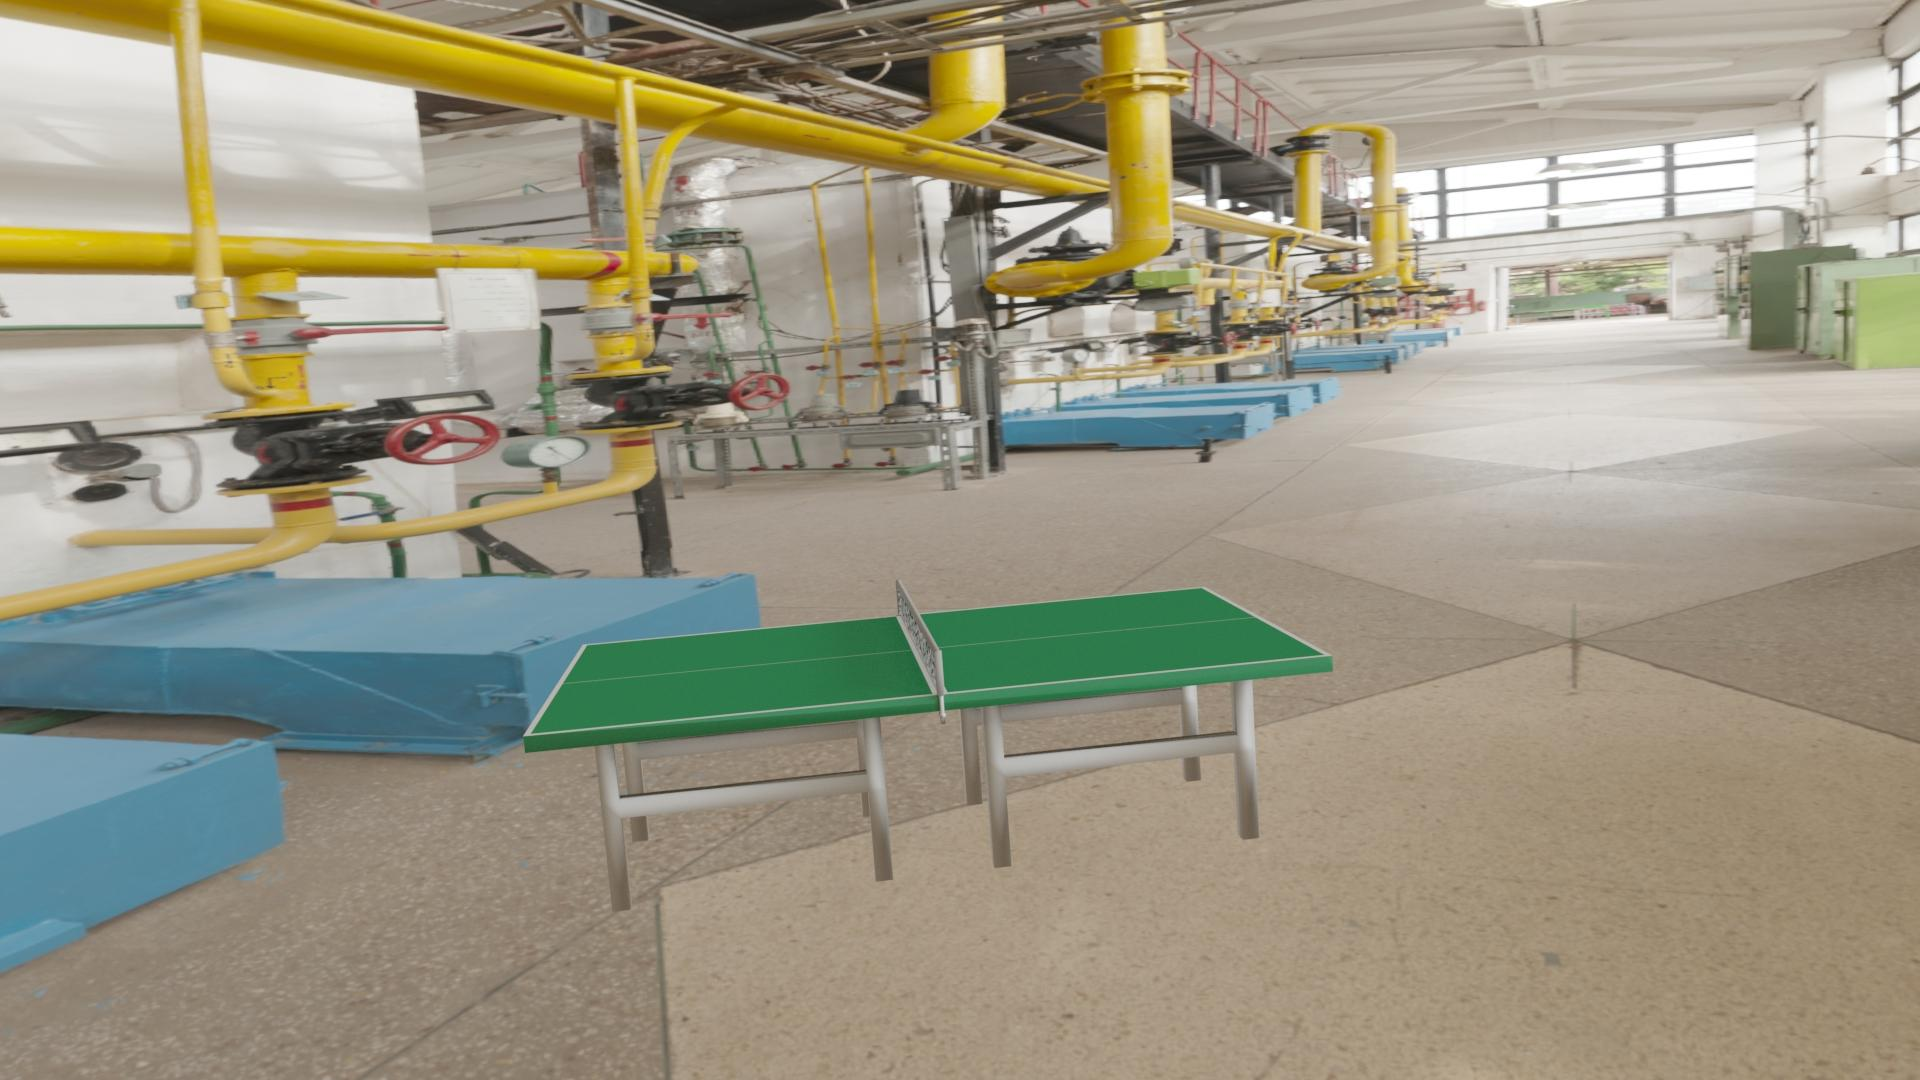table: (530, 588, 1325, 735)
